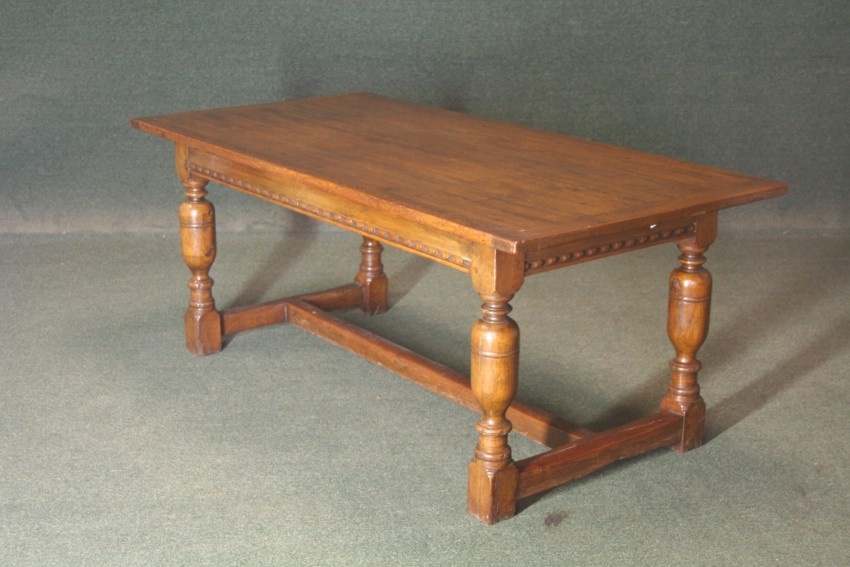obstacle: (132, 93, 786, 523)
